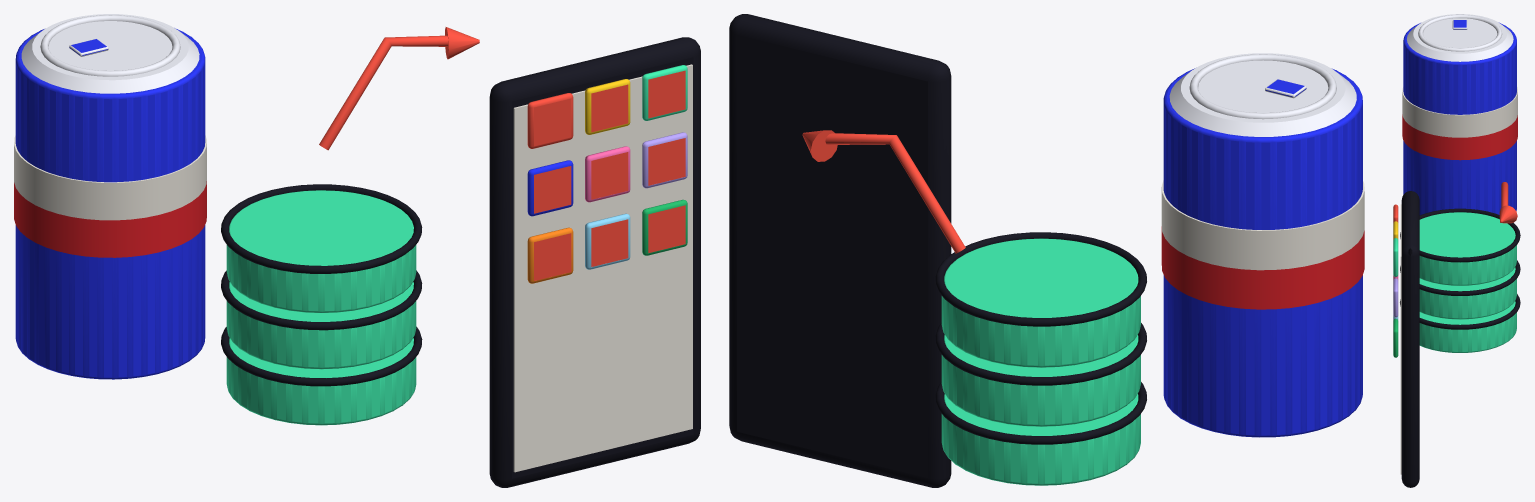
File: can.glb
3 renders of one model, left to right at view 1: azimuth 30°, elevation 25°; view 2: azimuth 150°, elevation 25°; view 3: azimuth 270°, elevation 25°, orthographic. The views are drawn at different scales.
Visible parts, largest first — view 1: phone, can.001, db, tiles, arrows; view 2: phone, can.001, db, arrows; view 3: can.001, db, phone, tiles, arrows.
Boxes of the visible parts, x1=… form: phone: x1=489, y1=37, x2=700, y2=487; can.001: x1=14, y1=14, x2=206, y2=379; db: x1=221, y1=184, x2=422, y2=425; tiles: x1=527, y1=65, x2=687, y2=283; arrows: x1=319, y1=27, x2=479, y2=150; phone: x1=729, y1=14, x2=951, y2=487; can.001: x1=1161, y1=53, x2=1364, y2=437; db: x1=935, y1=232, x2=1146, y2=485; arrows: x1=802, y1=130, x2=965, y2=253; can.001: x1=1402, y1=14, x2=1517, y2=215; db: x1=1400, y1=208, x2=1520, y2=352; phone: x1=1400, y1=191, x2=1419, y2=487; tiles: x1=1393, y1=204, x2=1398, y2=357; arrows: x1=1499, y1=182, x2=1517, y2=223.
Size of the model in its own units: 8.82 by 6.71 by 2.57.
